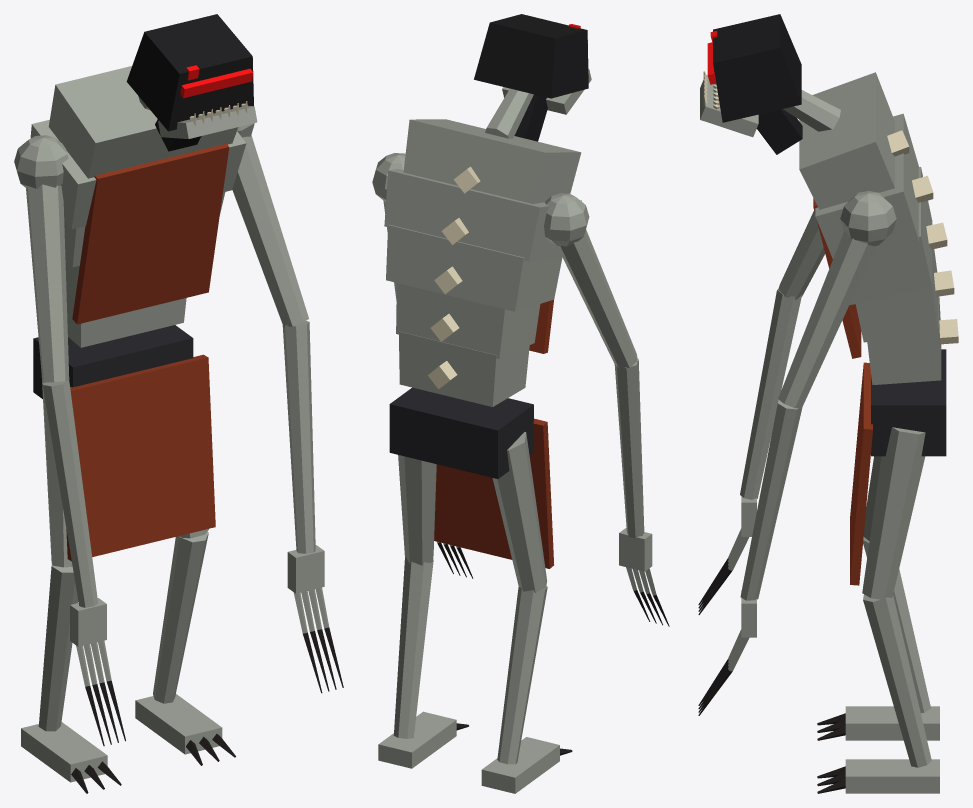
The model's file is the_stocker.obj.
3 views of the same model, side by side, from view 1: azimuth 30°, elevation 25°; view 2: azimuth 150°, elevation 25°; view 3: azimuth 270°, elevation 25° (orthographic). The views are drawn at different scales.
Visible parts, largest first — view 1: TheStocker; view 2: TheStocker; view 3: TheStocker.
Part boxes in pixels (x1,y1,x2,y2): TheStocker: (14, 14, 343, 793); TheStocker: (372, 14, 669, 793); TheStocker: (698, 14, 958, 793).
Size of the model in its own units: 0.9215 by 2.56 by 0.829.
